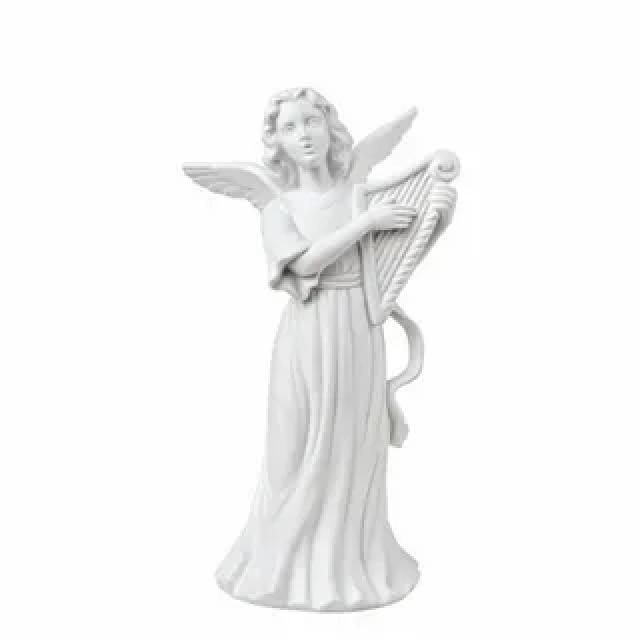angel: (171, 85, 483, 621)
